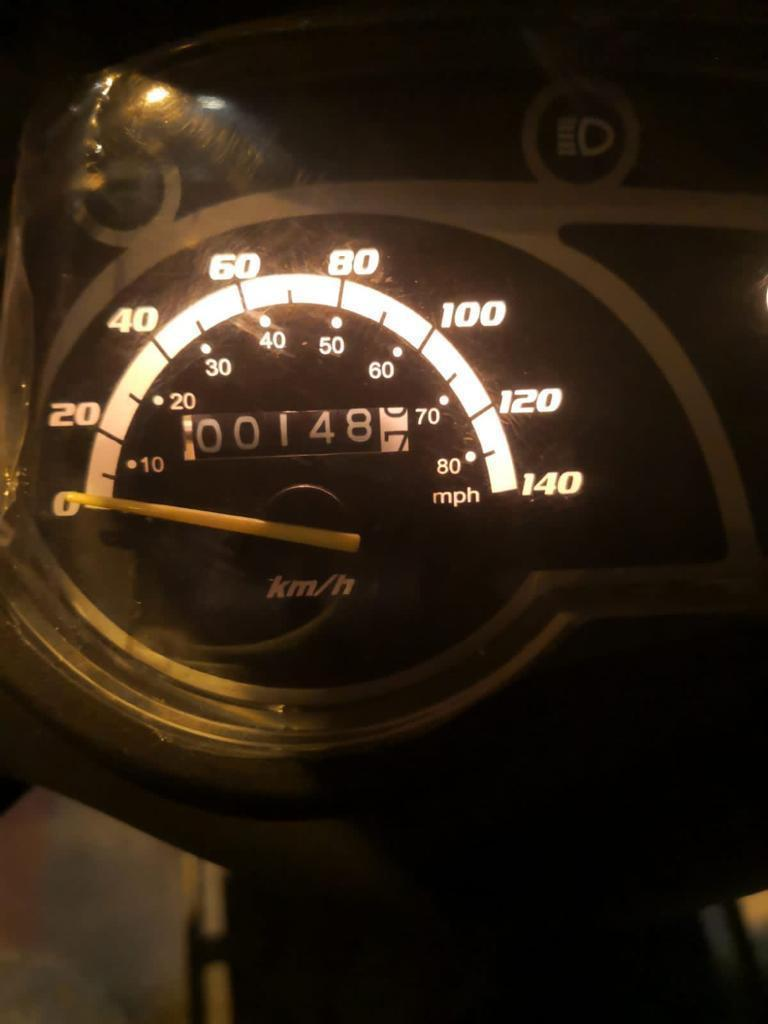0: (194, 417, 223, 453), (232, 414, 260, 451)
1: (277, 412, 289, 447)
4: (307, 410, 335, 445)
7: (383, 429, 408, 459)
8: (345, 407, 372, 442)
odometer: (176, 405, 414, 463)
